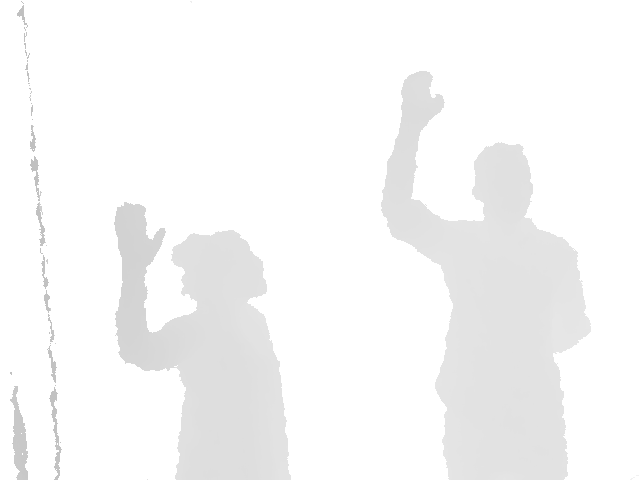hand: (114, 201, 167, 269), (401, 69, 445, 132)
head: (170, 229, 269, 305), (471, 142, 535, 221)
person: (379, 70, 593, 480), (113, 201, 291, 479)
